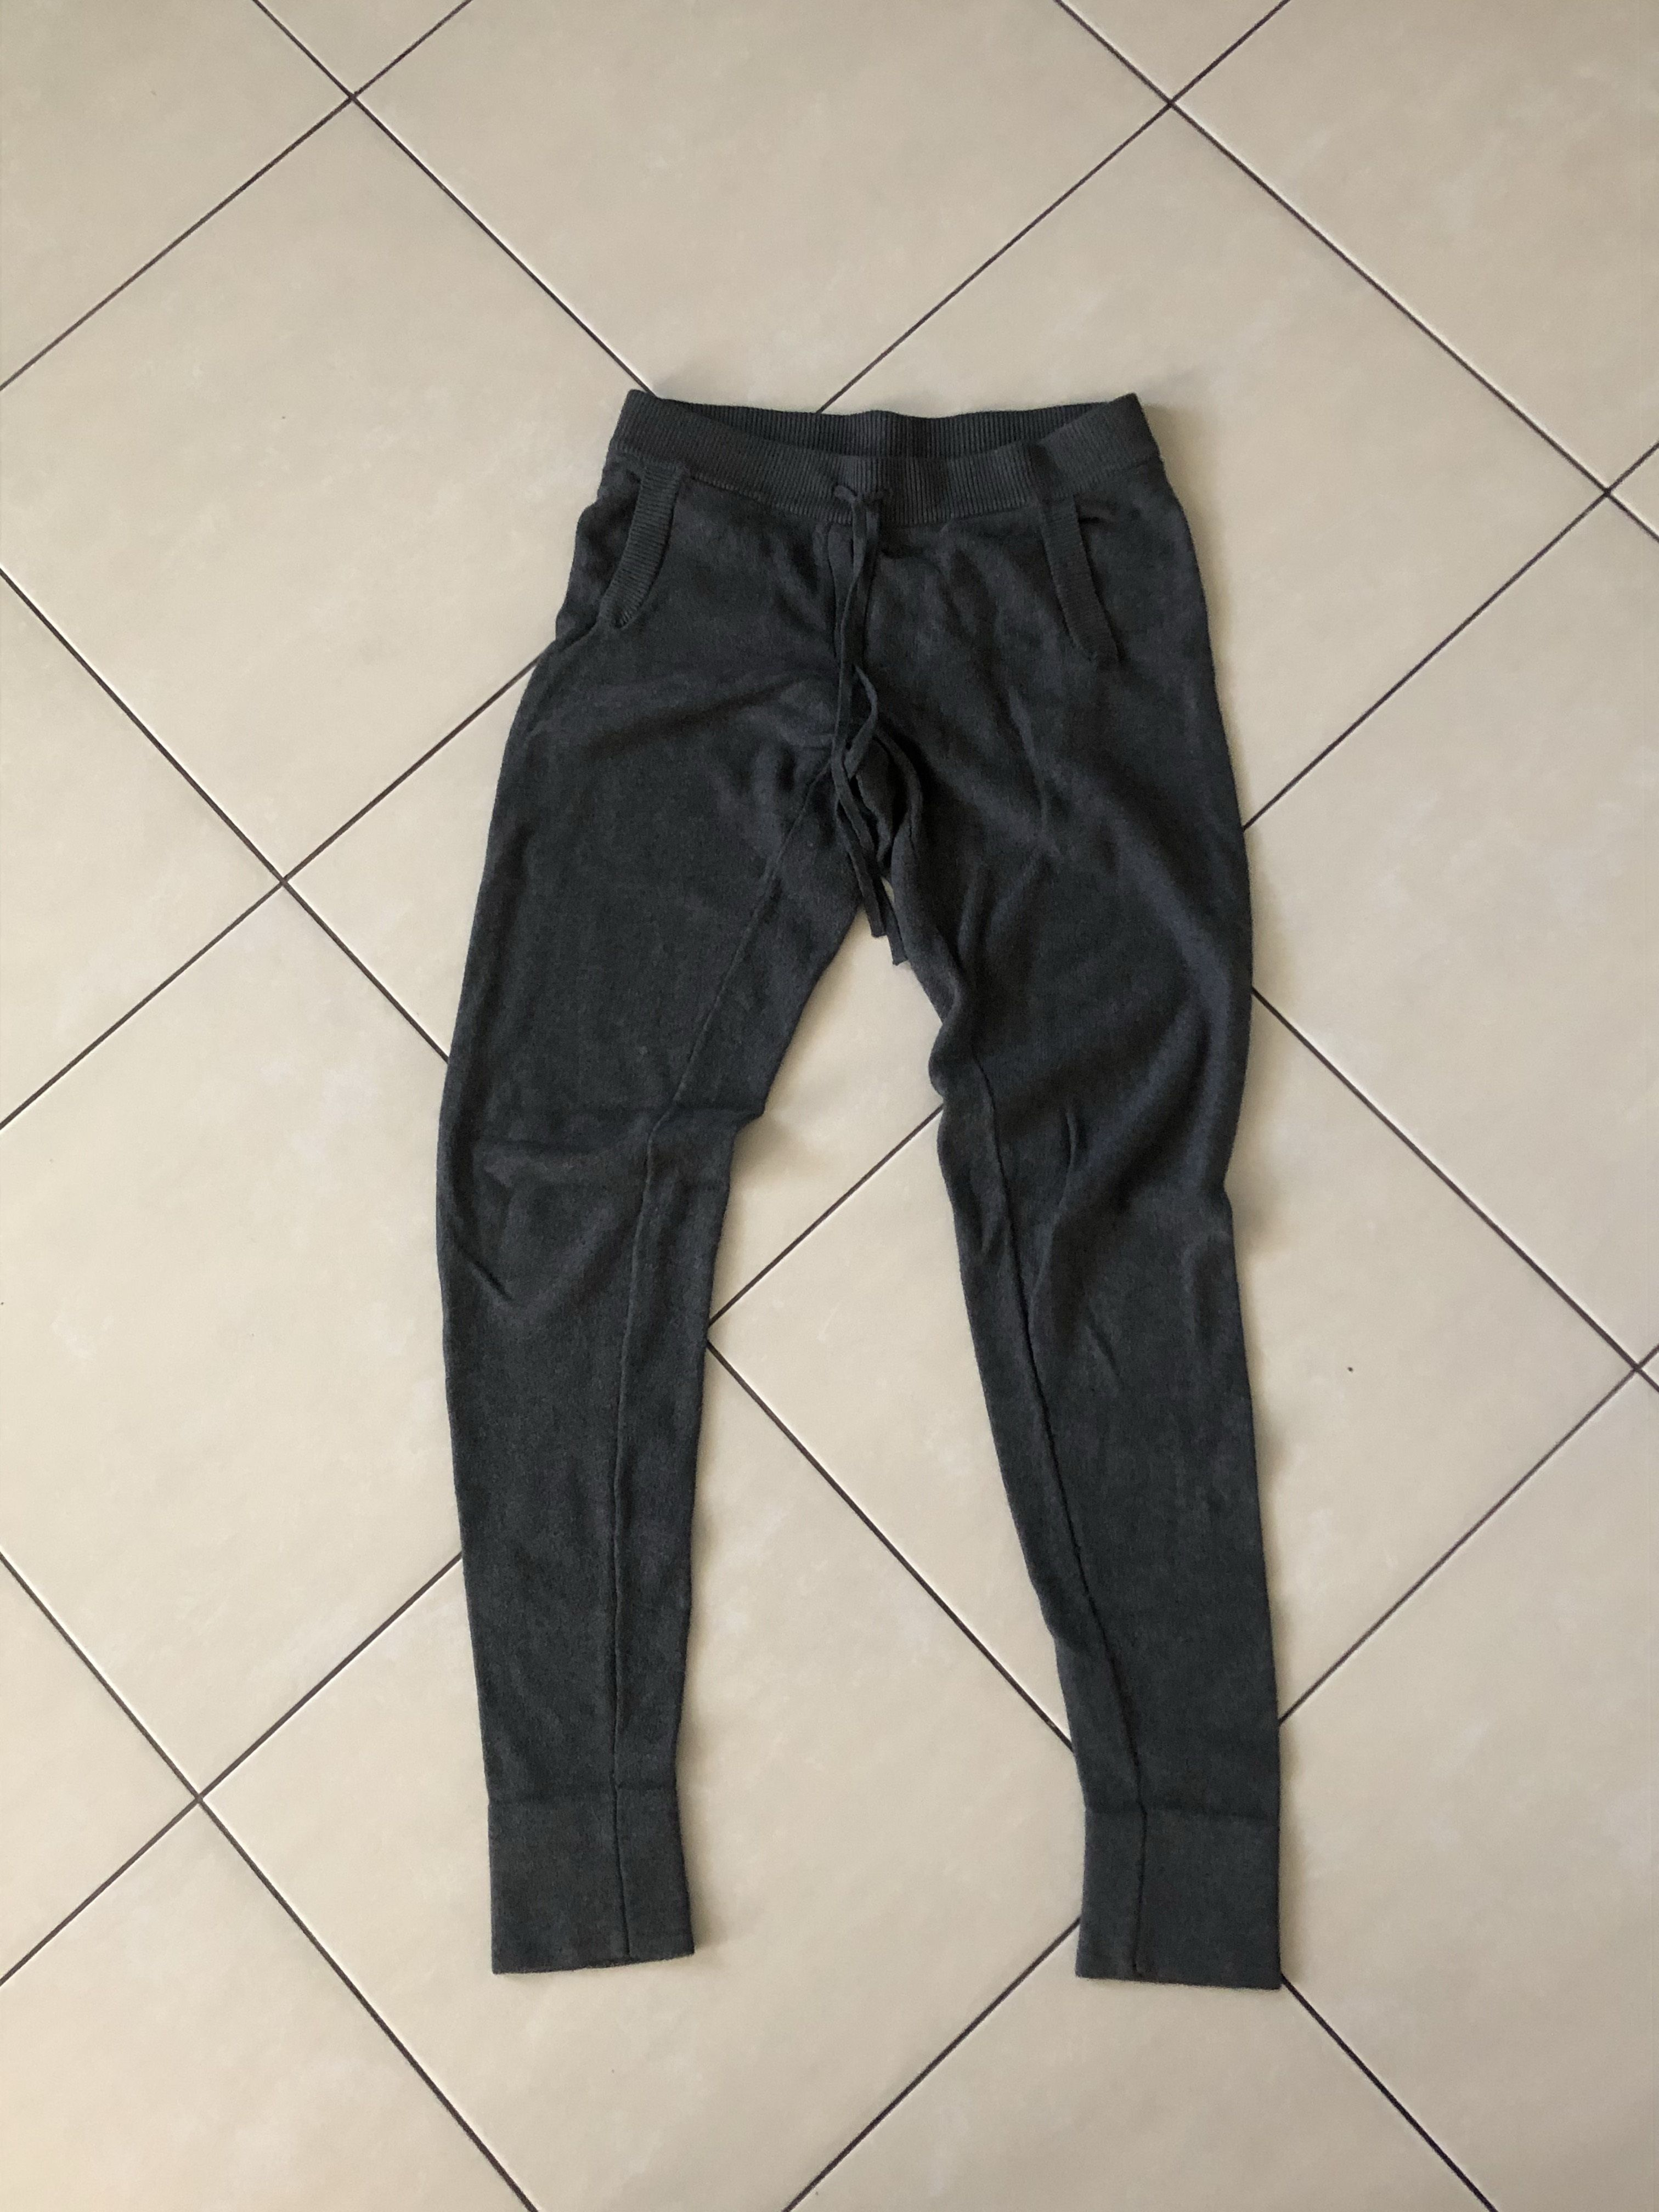clothes: (420, 380, 1312, 2012)
